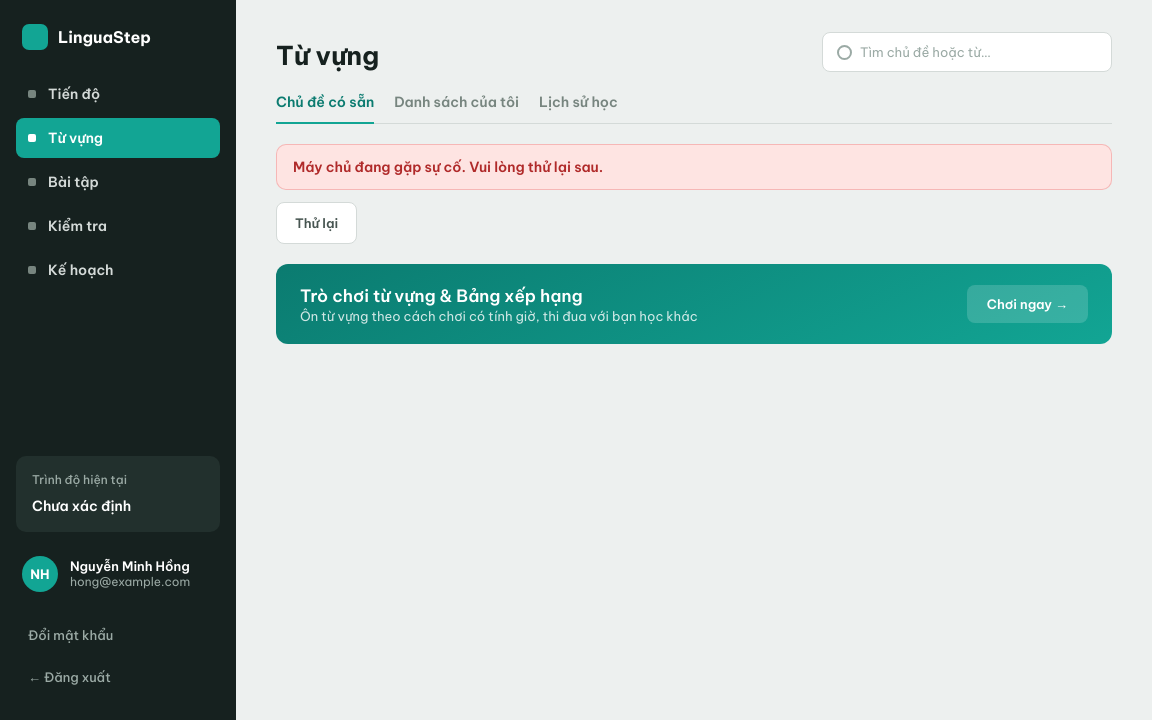
Test case: topics page › reports a failed load and recovers on retry
Expected: the message shows "Máy chủ đang gặp sự cố", [293,158,603,176]
Click the button "Thử lại". click: (317, 223)
box: [276,202,357,244]
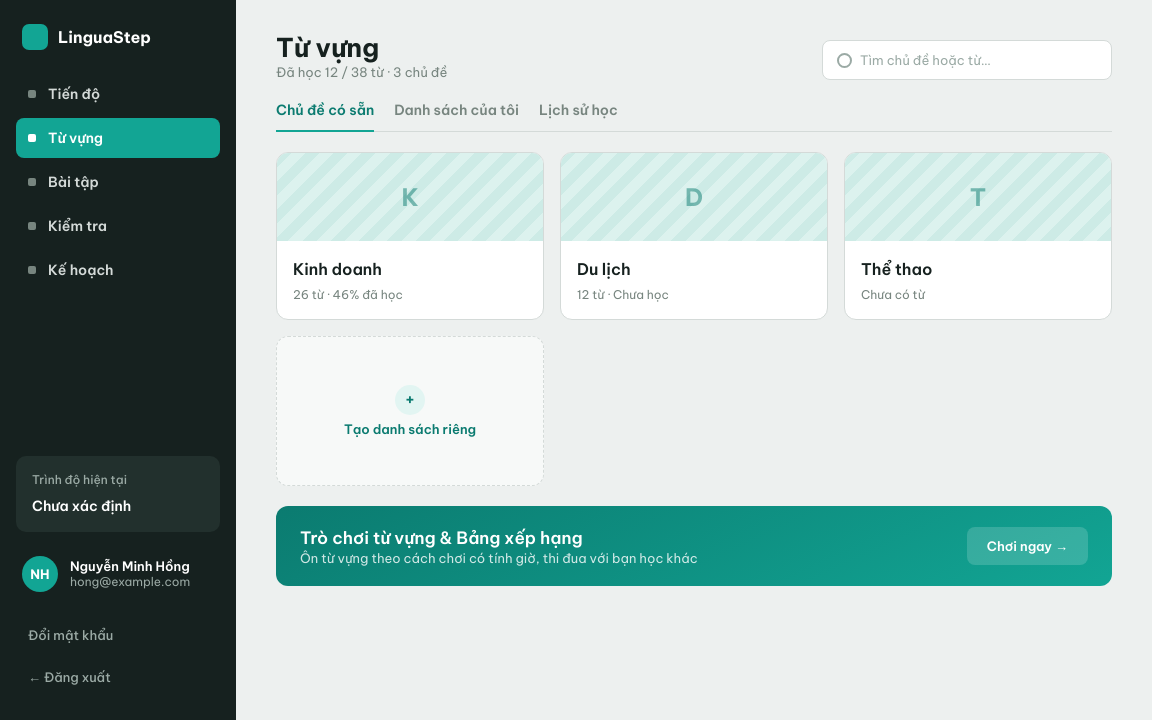
Result: the link "K Kinh doanh 26 từ · 46% đã học" is shown at [276,152,544,320]
